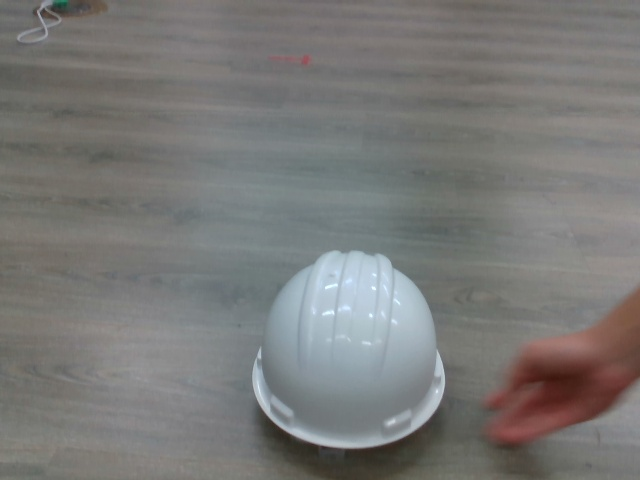helmet: (248, 247, 448, 454)
